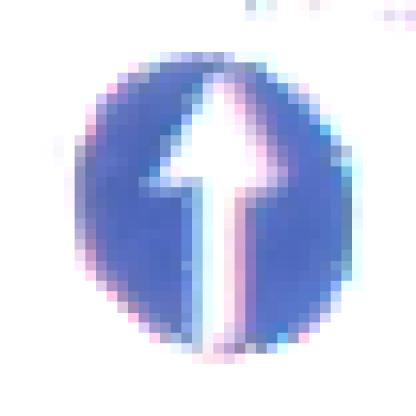AheadOnly: (65, 53, 364, 365)
